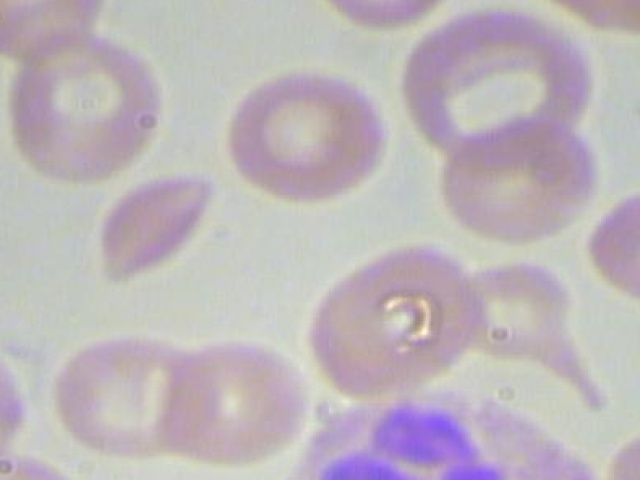WBC: (261, 383, 619, 480)
